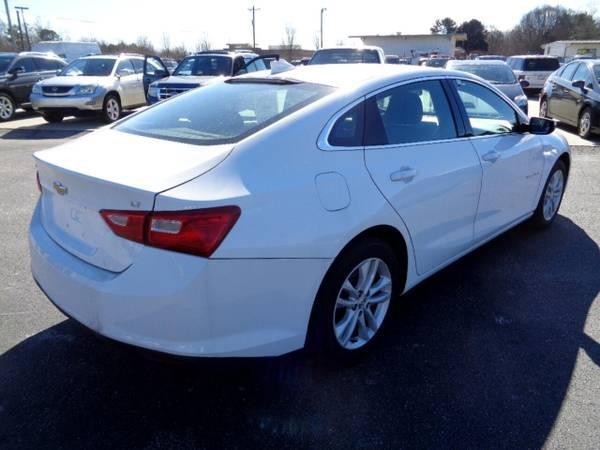Front_Right_Door: (467, 132, 542, 250)
Front_Right_Window: (441, 78, 533, 143)
Rear_Bumper: (29, 196, 332, 353)
Rear_Fender: (153, 99, 390, 259)
Rear_Right_Door: (360, 140, 479, 291)
Rear_Right_Window: (356, 79, 462, 151)
Rear_Windshield: (103, 81, 329, 148)
Right_Taillight: (99, 202, 241, 258)
Roof: (220, 66, 529, 162)
Tailgate: (34, 127, 232, 273)
Wheel: (321, 246, 401, 363), (541, 162, 569, 223)
